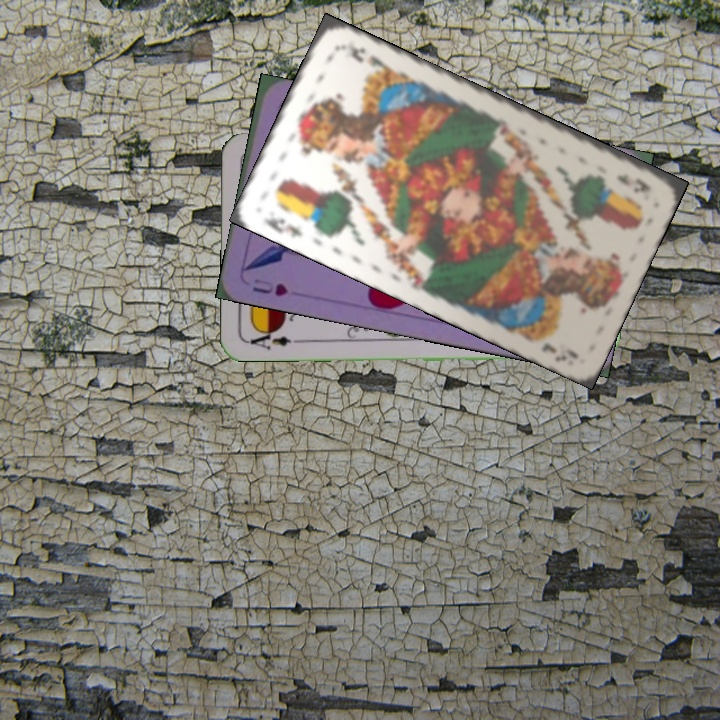EA: (245, 326, 304, 353)
EK: (259, 213, 305, 240), (612, 170, 654, 196)
HU: (248, 274, 292, 299)
